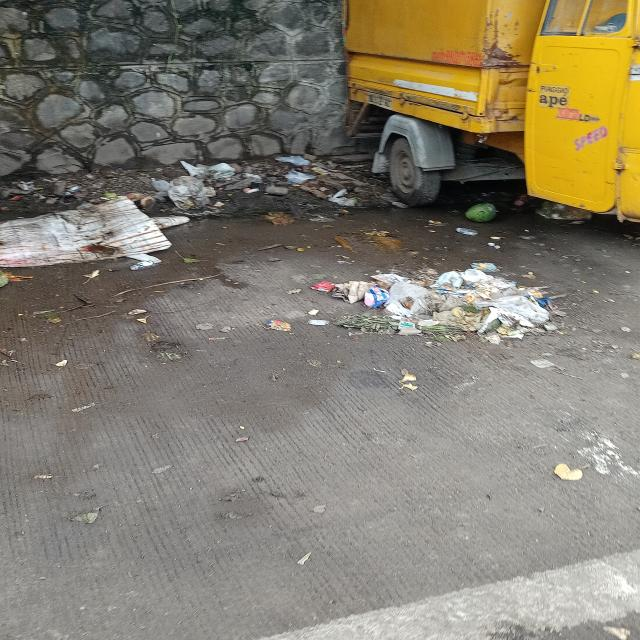garbage: (4, 150, 378, 255), (341, 265, 569, 347)
